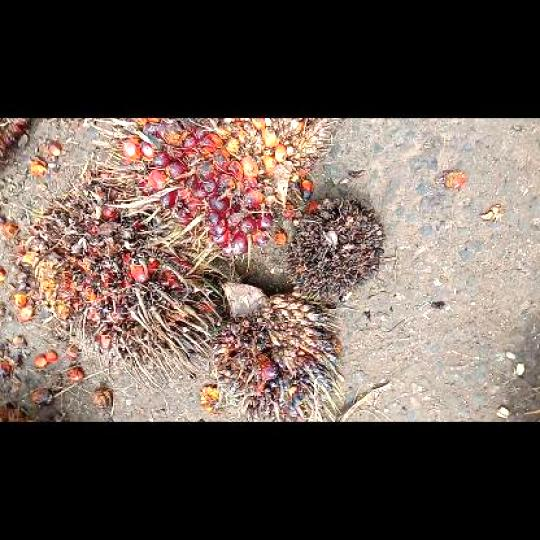masak: (86, 118, 335, 262)
terlalu masak: (10, 163, 224, 395)
